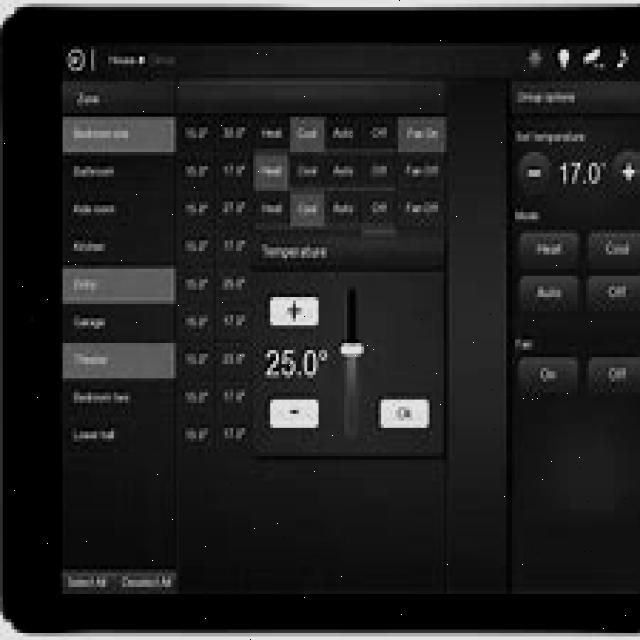button: (515, 352, 583, 402), (513, 272, 584, 316), (583, 350, 640, 402), (516, 227, 583, 270), (583, 272, 640, 318), (375, 391, 435, 433), (264, 288, 322, 331), (268, 391, 324, 435), (582, 229, 640, 269), (399, 188, 448, 230), (396, 114, 448, 153), (398, 152, 448, 190), (177, 190, 216, 236), (179, 114, 216, 160), (324, 188, 362, 232), (515, 149, 553, 193), (178, 346, 216, 388), (214, 340, 252, 380), (250, 114, 289, 152), (214, 304, 254, 341), (362, 190, 399, 230), (289, 114, 327, 152), (215, 230, 252, 269), (289, 191, 326, 230), (362, 150, 398, 190), (180, 304, 216, 344), (217, 192, 256, 228), (175, 270, 218, 302), (216, 382, 251, 421), (289, 151, 324, 190), (217, 153, 253, 190), (217, 113, 249, 154), (325, 152, 361, 188), (215, 420, 253, 454), (326, 112, 360, 150), (613, 148, 640, 195), (360, 115, 396, 150), (181, 387, 214, 425), (252, 155, 288, 189), (177, 236, 214, 269), (215, 268, 253, 300), (178, 422, 215, 454), (178, 159, 215, 191), (256, 192, 288, 228), (611, 44, 640, 74), (580, 46, 606, 74), (65, 43, 86, 76), (522, 47, 546, 74), (553, 48, 574, 75)
dropdownMenu: (62, 78, 176, 567)
label: (559, 152, 609, 192), (510, 204, 550, 224), (512, 329, 536, 354)
menuItem: (66, 120, 141, 148), (65, 192, 126, 220), (68, 387, 136, 410), (70, 158, 126, 184), (67, 424, 125, 446), (68, 312, 114, 336), (72, 349, 114, 372), (72, 270, 106, 298), (71, 238, 109, 255)
slider: (336, 280, 370, 448)
